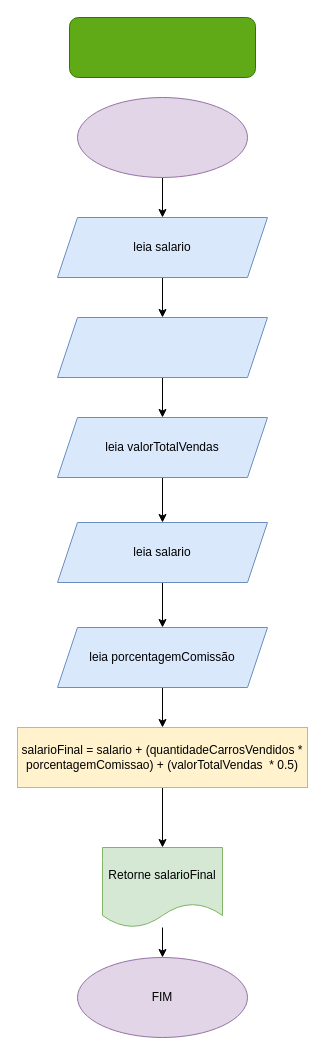
The diagram is 325 pixels wide and 1055 high, and some of its shapes have lost their labels. The centre of each missing label's shape, as x and y in pixels:
CalculaSalarioVendedor: the point at 162,47
Inicio: the point at 162,137
leia quantidadeCarrosVendidos: the point at 162,347
